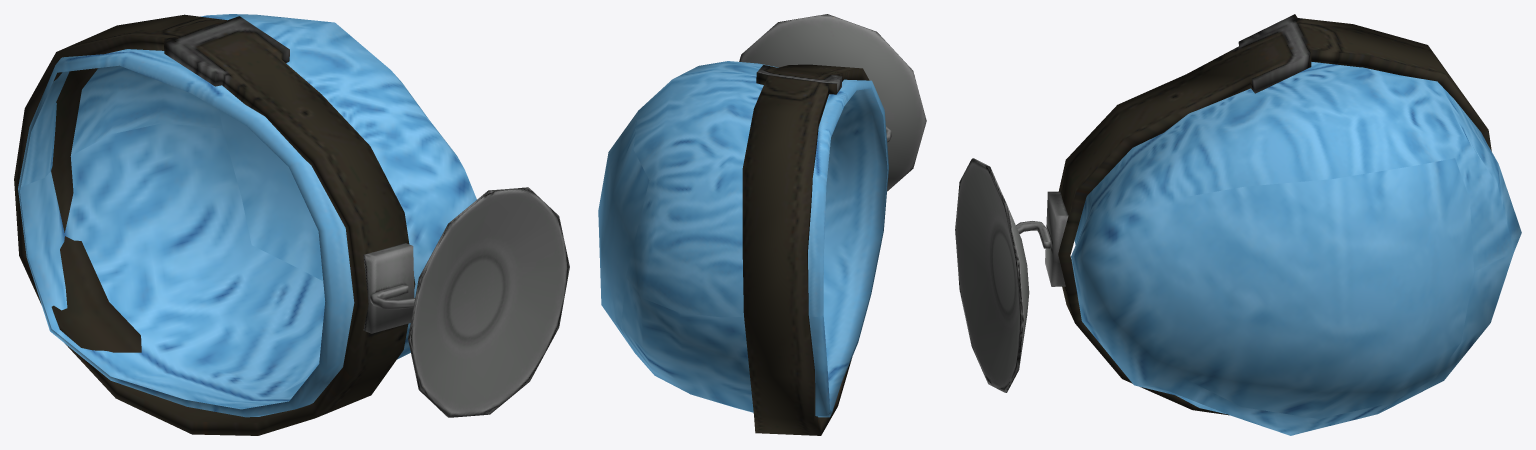
File: F_DentistCap.fbx
3 views of the same model, side by side, from view 1: azimuth 30°, elevation 25°; view 2: azimuth 150°, elevation 25°; view 3: azimuth 270°, elevation 25° (orthographic). The views are drawn at different scales.
Parts seen in each view (by area): view 1: DentistCap; view 2: DentistCap; view 3: DentistCap.
Boxes of the visible parts, <box> form: DentistCap: <box>14,14,569,435</box>; DentistCap: <box>598,14,926,435</box>; DentistCap: <box>955,14,1521,435</box>.
Bounding box in the file's own units: 0.1142 × 0.1276 × 0.1749.
